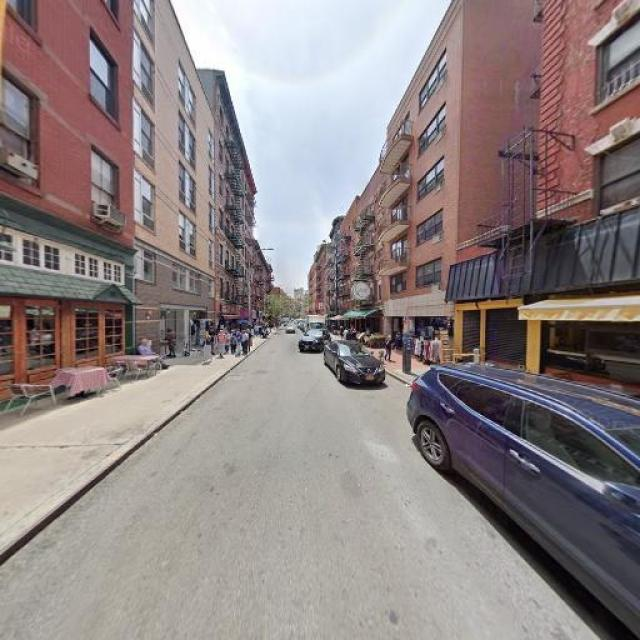Building: (389, 7, 539, 397), (1, 1, 132, 399), (545, 1, 640, 427), (137, 1, 213, 359), (215, 44, 249, 339), (355, 160, 386, 349), (340, 208, 354, 338)
